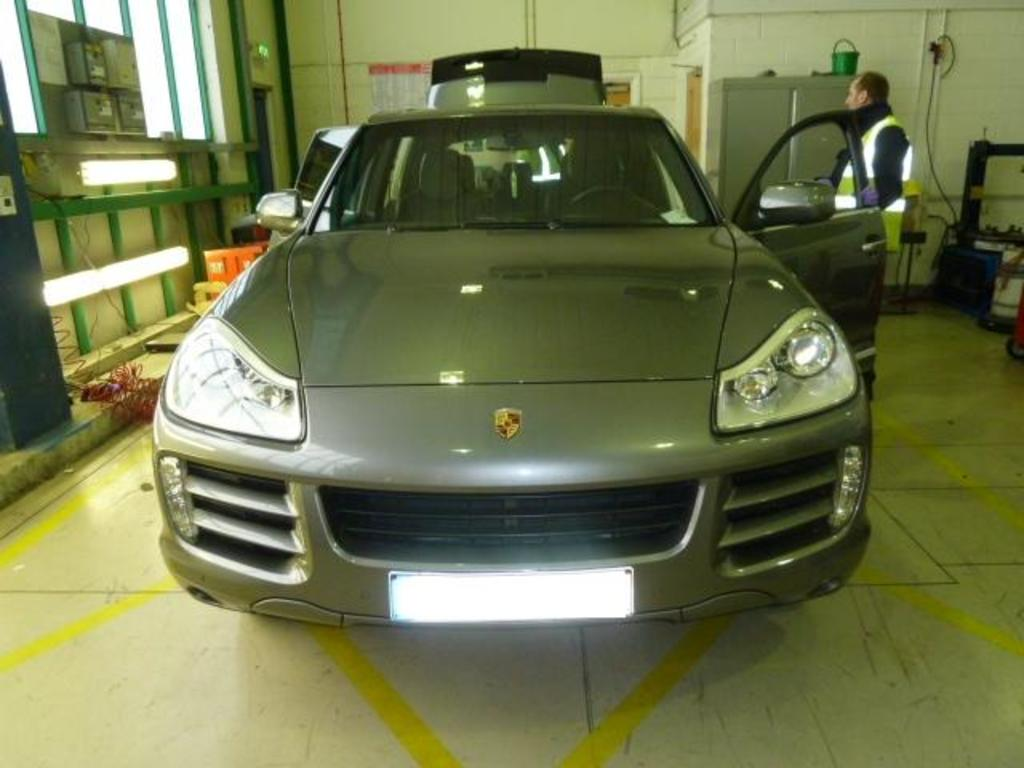Person: (834, 70, 912, 253)
